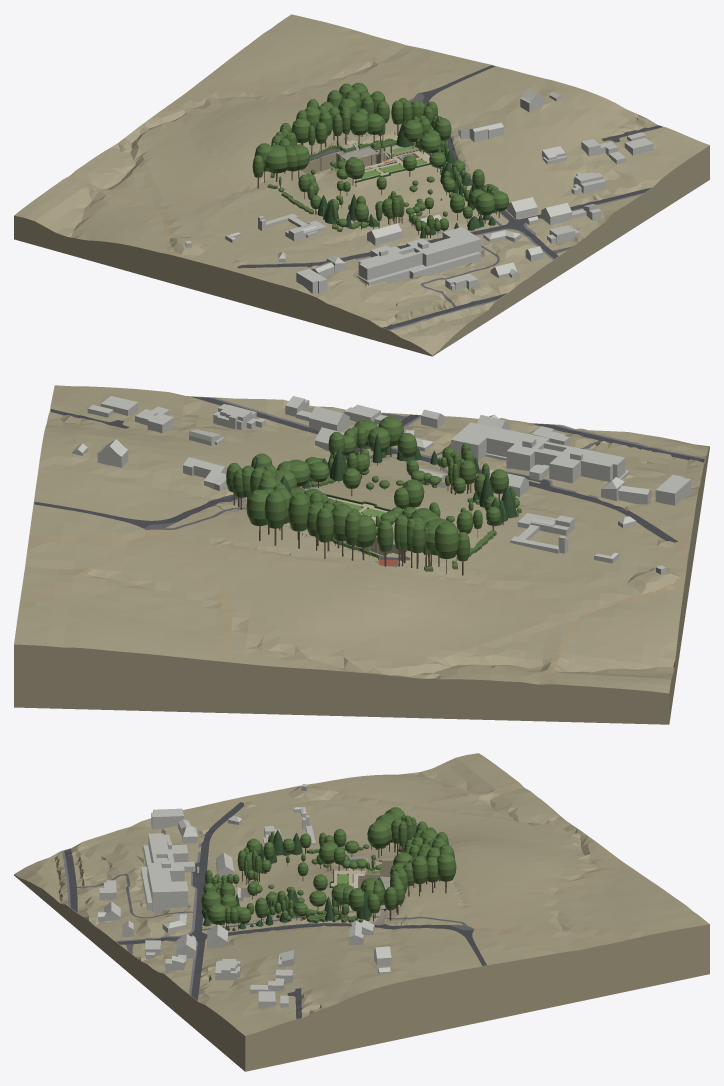
3 renders of one model, top to bottom at view 1: azimuth 30°, elevation 25°; view 2: azimuth 150°, elevation 25°; view 3: azimuth 270°, elevation 25°, orthographic. The views are drawn at different scales.
Parts seen in each view (by area): view 1: rh-r5022850-c0, rh-r1911383-c0, rh-r5024477-c1, rh-r5025486-c1, rh-r1911374-c0, rh-r1911392-c0, rh-r1911373-c0, rh-r1911397-c0, rh-r1911375-c0, rh-r1911387-c0; view 2: rh-r5022850-c0, rh-r1911383-c0, rh-r5025486-c1, rh-r5024477-c1, rh-r1911374-c0, rh-r1911373-c0, rh-r1911389-c0, rh-r1911397-c0, rh-r1911387-c0, rh-r1911384-c0, rh-r3793545-c1, rh-r1911392-c0 (+7 smaller); view 3: rh-r5022850-c0, rh-r1911383-c0, rh-r5024477-c1, rh-r5025486-c1, rh-r1911397-c0, rh-r1911392-c0, rh-r1911387-c0, rh-r3793570-c1.
Part boxes in pixels (x1,y1,x2,y2): rh-r5022850-c0: (14,14,709,356); rh-r1911383-c0: (357,227,481,285); rh-r5024477-c1: (237,65,650,268); rh-r5025486-c1: (68,30,445,258); rh-r1911374-c0: (258,214,326,241); rh-r1911392-c0: (581,139,626,164); rh-r1911373-c0: (458,122,504,142); rh-r1911397-c0: (296,268,327,293); rh-r1911375-c0: (367,223,401,245); rh-r1911387-c0: (573,172,606,193); rh-r5022850-c0: (14,385,709,724); rh-r1911383-c0: (451,422,629,483); rh-r5025486-c1: (20,510,685,684); rh-r5024477-c1: (34,396,677,542); rh-r1911374-c0: (510,513,574,553); rh-r1911373-c0: (183,457,227,491); rh-r1911389-c0: (601,477,651,504); rh-r1911397-c0: (655,475,690,505); rh-r1911387-c0: (213,404,256,429); rh-r1911384-c0: (309,406,349,431); rh-r3793545-c1: (434,522,458,558); rh-r1911392-c0: (135,406,173,433); rh-r5022850-c0: (14,753,709,1071); rh-r1911383-c0: (141,833,188,913); rh-r5024477-c1: (117,802,486,1000); rh-r5025486-c1: (287,785,642,956); rh-r1911397-c0: (151,808,183,829); rh-r1911392-c0: (250,969,292,993); rh-r1911387-c0: (215,959,240,980); rh-r3793570-c1: (367,822,389,848).
Bounding box in the file's own units: 536 × 78.28 × 536.
